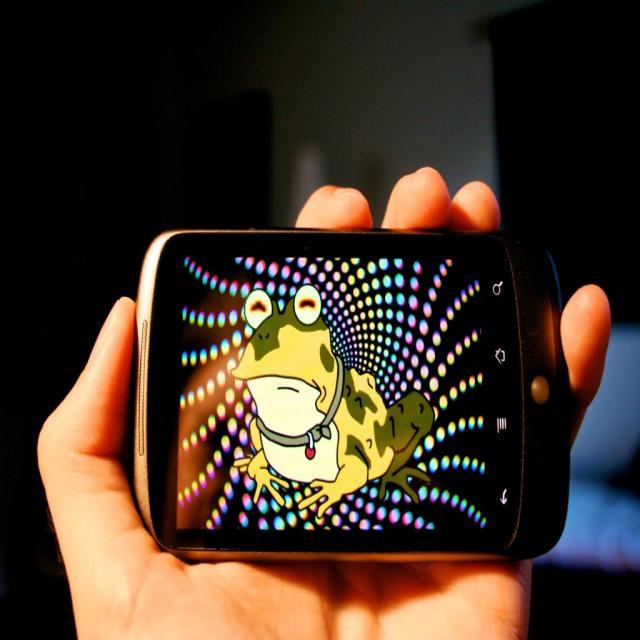Mobile-phone: (141, 180, 594, 594)
